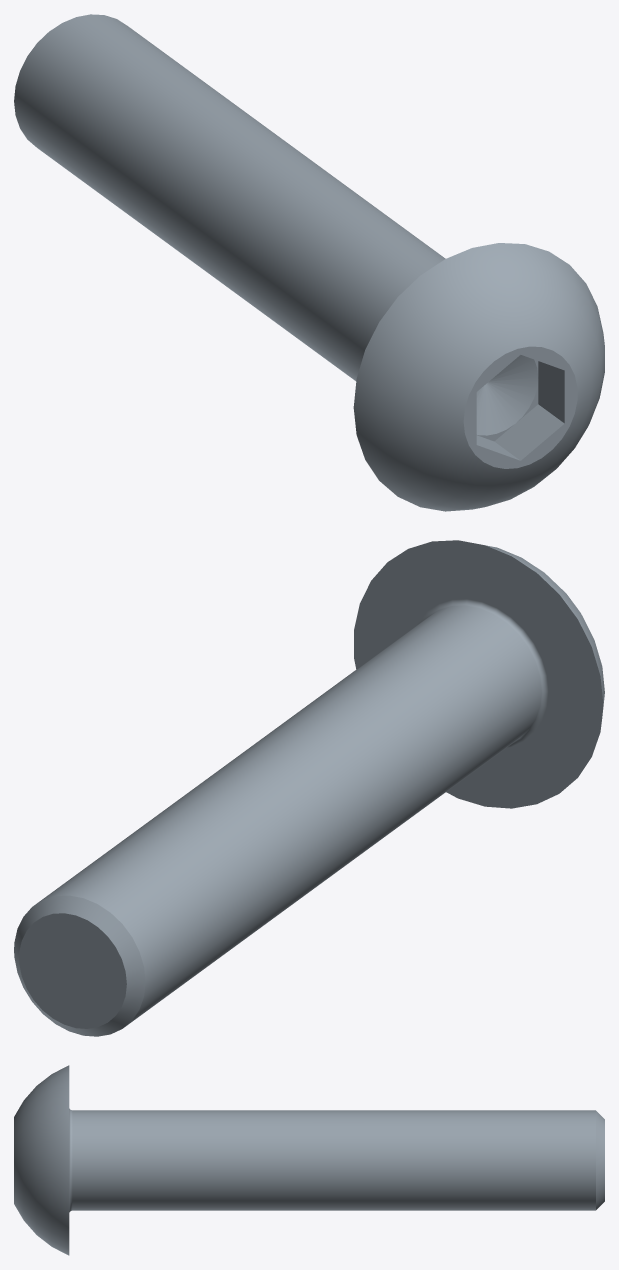
The model's file is Socket_button_head_screw_M3x0_5_x_16.obj.
The picture shows the model from 3 angles, top to bottom: view 1: azimuth 30°, elevation 25°; view 2: azimuth 150°, elevation 25°; view 3: azimuth 270°, elevation 25°; orthographic projection. The views are drawn at different scales.
Visible parts, largest first — view 1: mesh473, mesh476, mesh477, mesh485, mesh482, mesh483; view 2: mesh473, mesh475, mesh471, mesh472, mesh474, mesh476; view 3: mesh473, mesh476, mesh472, mesh474.
Boxes of the visible parts, box(x1,y1,x2,y2) form: mesh473: box(14, 14, 445, 381); mesh476: box(353, 243, 604, 511); mesh477: box(463, 346, 577, 468); mesh485: box(476, 355, 538, 435); mesh482: box(494, 404, 564, 460); mesh483: box(538, 361, 564, 423); mesh473: box(34, 605, 541, 1027); mesh475: box(354, 540, 603, 808); mesh471: box(19, 913, 126, 1028); mesh472: box(14, 895, 145, 1036); mesh474: box(416, 599, 548, 747); mesh476: box(486, 545, 604, 726); mesh473: box(72, 1110, 595, 1210); mesh476: box(14, 1065, 69, 1255); mesh472: box(596, 1111, 604, 1209); mesh474: box(69, 1108, 72, 1212).
Size of the model in its own units: 0.00568 by 0.00569 by 0.0177.
